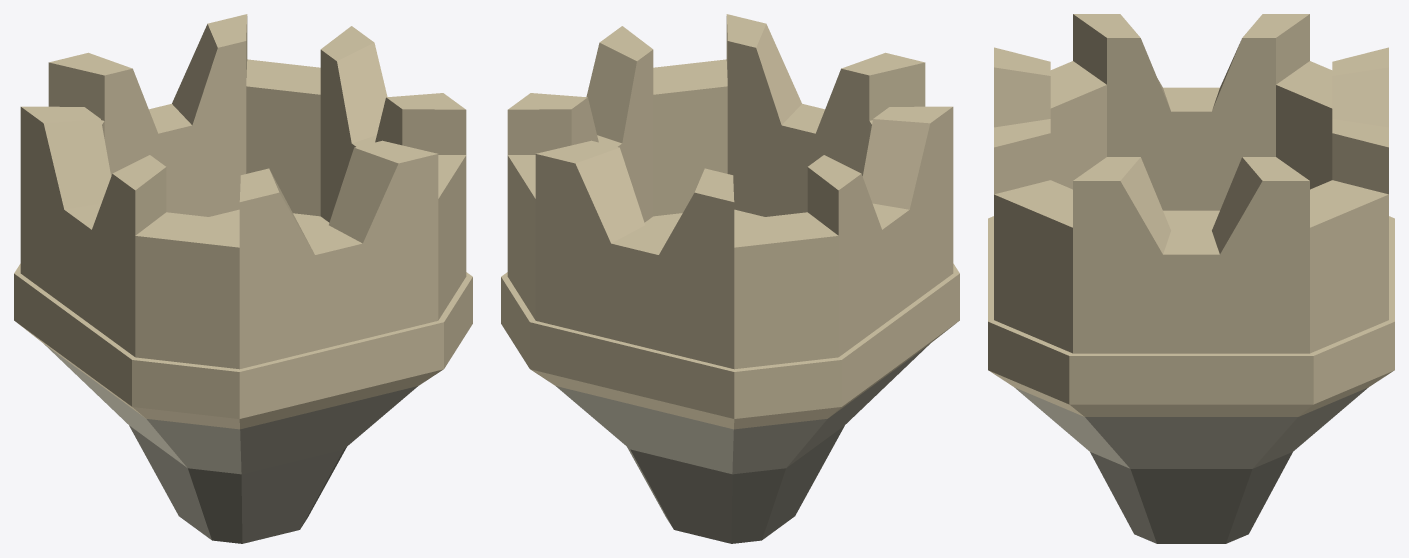
Rendered from corner_bartizan.glb.
3 views of the same model, side by side, from view 1: azimuth 30°, elevation 25°; view 2: azimuth 150°, elevation 25°; view 3: azimuth 270°, elevation 25° (orthographic). The views are drawn at different scales.
Visible parts, largest first — view 1: Corner bartizan; view 2: Corner bartizan; view 3: Corner bartizan.
Part boxes in pixels (box(x1,y1,x2,y2)): Corner bartizan: box(14, 14, 472, 543); Corner bartizan: box(501, 14, 959, 543); Corner bartizan: box(988, 14, 1394, 543).
Size of the model in its own units: 1.1 by 1.26 by 1.1.
